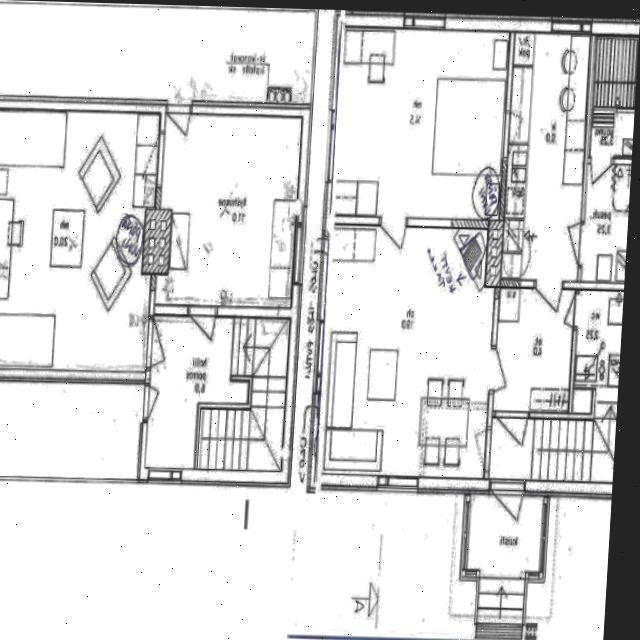room: (315, 221, 498, 483), (0, 110, 160, 372), (330, 23, 509, 223), (155, 110, 302, 311), (145, 312, 290, 475), (501, 33, 591, 282), (493, 286, 575, 415), (588, 35, 639, 160), (581, 163, 631, 283)
